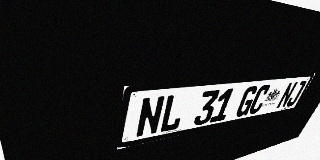1: (209, 88, 237, 123)
3: (192, 90, 221, 126)
C: (247, 84, 272, 115)
G: (234, 85, 260, 118)
J: (285, 80, 307, 107)
L: (158, 93, 188, 133)
N: (135, 95, 166, 138), (275, 81, 298, 109)
